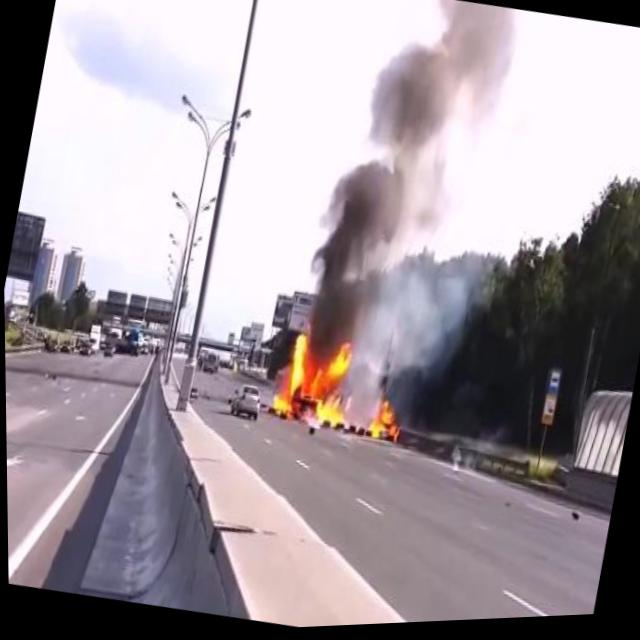fire: (263, 328, 366, 441), (362, 396, 406, 455)
